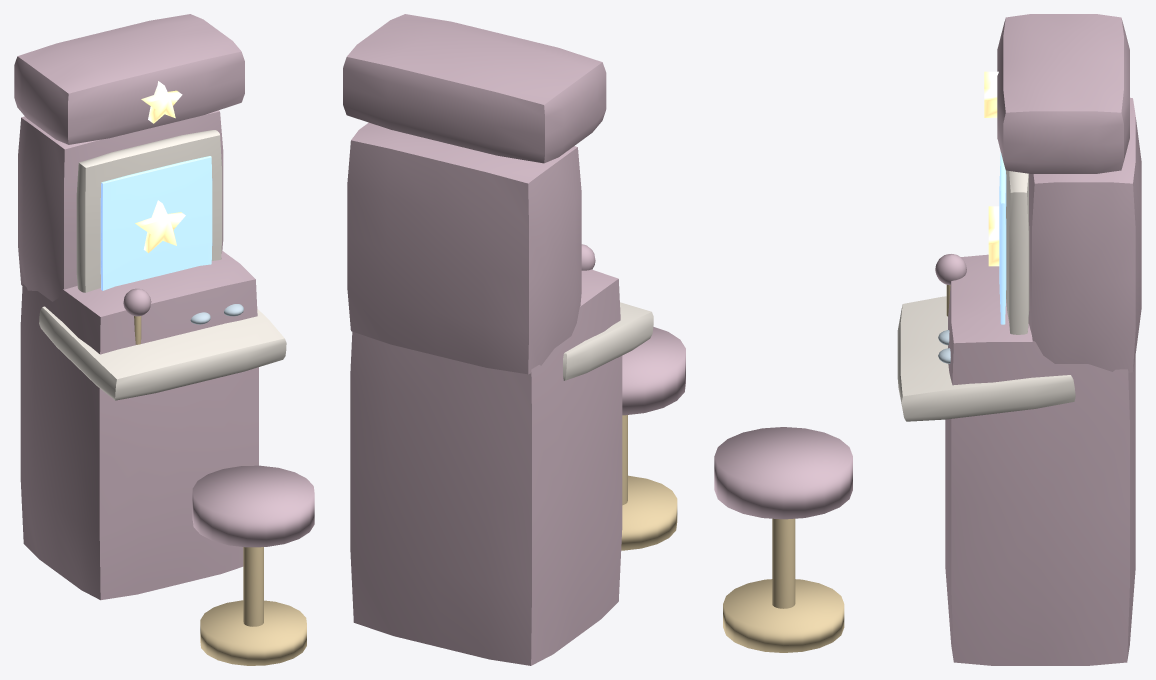
The model's file is pink_arcade.glb.
3 renders of one model, left to right at view 1: azimuth 30°, elevation 25°; view 2: azimuth 150°, elevation 25°; view 3: azimuth 270°, elevation 25°, orthographic. The views are drawn at different scales.
Visible parts, largest first — view 1: cabinet lower, marquee, cabinet upper, control deck, display, stool seat, screen bezel, stool foot, stool stem, pixel star, marquee star, joystick knob; view 2: cabinet lower, cabinet upper, marquee, stool seat, stool foot, control deck, stool stem; view 3: cabinet lower, cabinet upper, marquee, stool seat, control deck, stool foot, screen bezel, stool stem, display, joystick knob, pixel star, marquee star.
Part boxes in pixels (bbox=[...]): cabinet lower: bbox=[20, 251, 258, 600]; marquee: bbox=[14, 14, 244, 144]; cabinet upper: bbox=[18, 110, 223, 301]; control deck: bbox=[39, 306, 286, 400]; display: bbox=[100, 156, 212, 290]; stool seat: bbox=[192, 465, 314, 547]; screen bezel: bbox=[76, 130, 222, 292]; stool foot: bbox=[200, 600, 306, 665]; stool stem: bbox=[243, 547, 263, 626]; pixel star: bbox=[135, 200, 185, 252]; marquee star: bbox=[141, 81, 182, 123]; joystick knob: bbox=[123, 288, 151, 316]; cabinet lower: bbox=[350, 269, 622, 665]; cabinet upper: bbox=[347, 122, 581, 374]; marquee: bbox=[343, 14, 606, 163]; stool seat: bbox=[622, 326, 685, 415]; stool foot: bbox=[621, 475, 677, 550]; control deck: bbox=[562, 302, 653, 380]; stool stem: bbox=[622, 415, 627, 505]; cabinet lower: bbox=[945, 254, 1135, 665]; cabinet upper: bbox=[1028, 97, 1141, 372]; marquee: bbox=[997, 14, 1129, 173]; stool seat: bbox=[714, 427, 852, 519]; control deck: bbox=[897, 296, 1075, 421]; stool foot: bbox=[723, 579, 844, 652]; screen bezel: bbox=[1006, 170, 1029, 334]; stool stem: bbox=[772, 518, 795, 608]; display: bbox=[999, 152, 1006, 324]; joystick knob: bbox=[935, 254, 966, 285]; pixel star: bbox=[988, 206, 999, 266]; marquee star: bbox=[984, 71, 998, 117].
Size of the model in its own units: 0.84 by 2.18 by 1.48.
